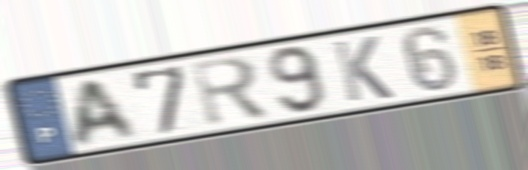6: (399, 24, 462, 95)
7: (128, 62, 188, 137)
9: (265, 43, 330, 116)
A: (71, 75, 142, 150)
K: (329, 33, 397, 105)
R: (188, 53, 274, 131)
